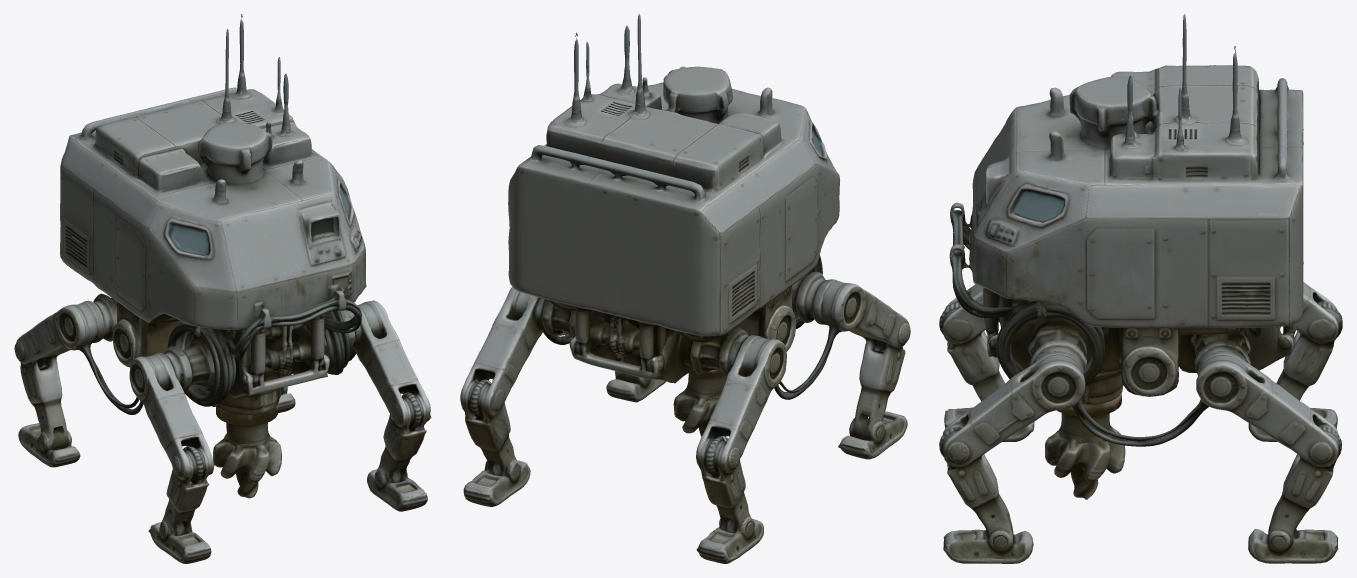
Rendered from Walker DrillDrill Spin.fbx.
3 views of the same model, side by side, from view 1: azimuth 30°, elevation 25°; view 2: azimuth 150°, elevation 25°; view 3: azimuth 270°, elevation 25° (orthographic). The views are drawn at different scales.
Parts seen in each view (by area): view 1: tripo_node_07083338, Object; view 2: tripo_node_07083338, Object; view 3: tripo_node_07083338, Object.
Part boxes in pixels (x1,y1,x2,y2): tripo_node_07083338: (14, 14, 431, 563); Object: (213, 404, 281, 498); tripo_node_07083338: (460, 14, 910, 563); Object: (673, 369, 726, 436); tripo_node_07083338: (939, 14, 1342, 563); Object: (1045, 392, 1125, 499).
Size of the model in its own units: 18.48 by 30.01 by 22.08.
1 material, 1 textured.
